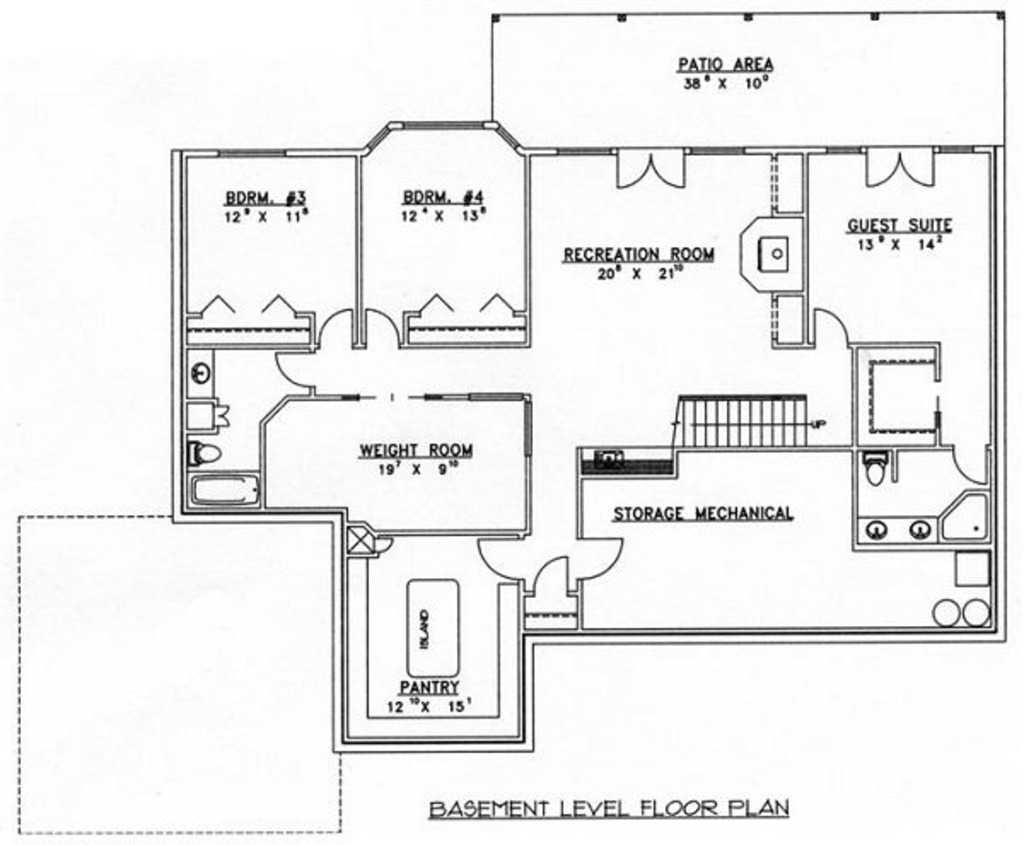door: (611, 146, 693, 191), (861, 146, 936, 190), (525, 556, 580, 613), (574, 529, 624, 581), (310, 306, 362, 351), (272, 350, 323, 392), (950, 442, 997, 487), (475, 534, 521, 578), (806, 308, 853, 349), (362, 302, 402, 349)
large_sink: (183, 439, 234, 472), (858, 449, 901, 486)
small_sink: (855, 514, 939, 550), (184, 347, 216, 397)
stairs: (658, 391, 827, 462)
